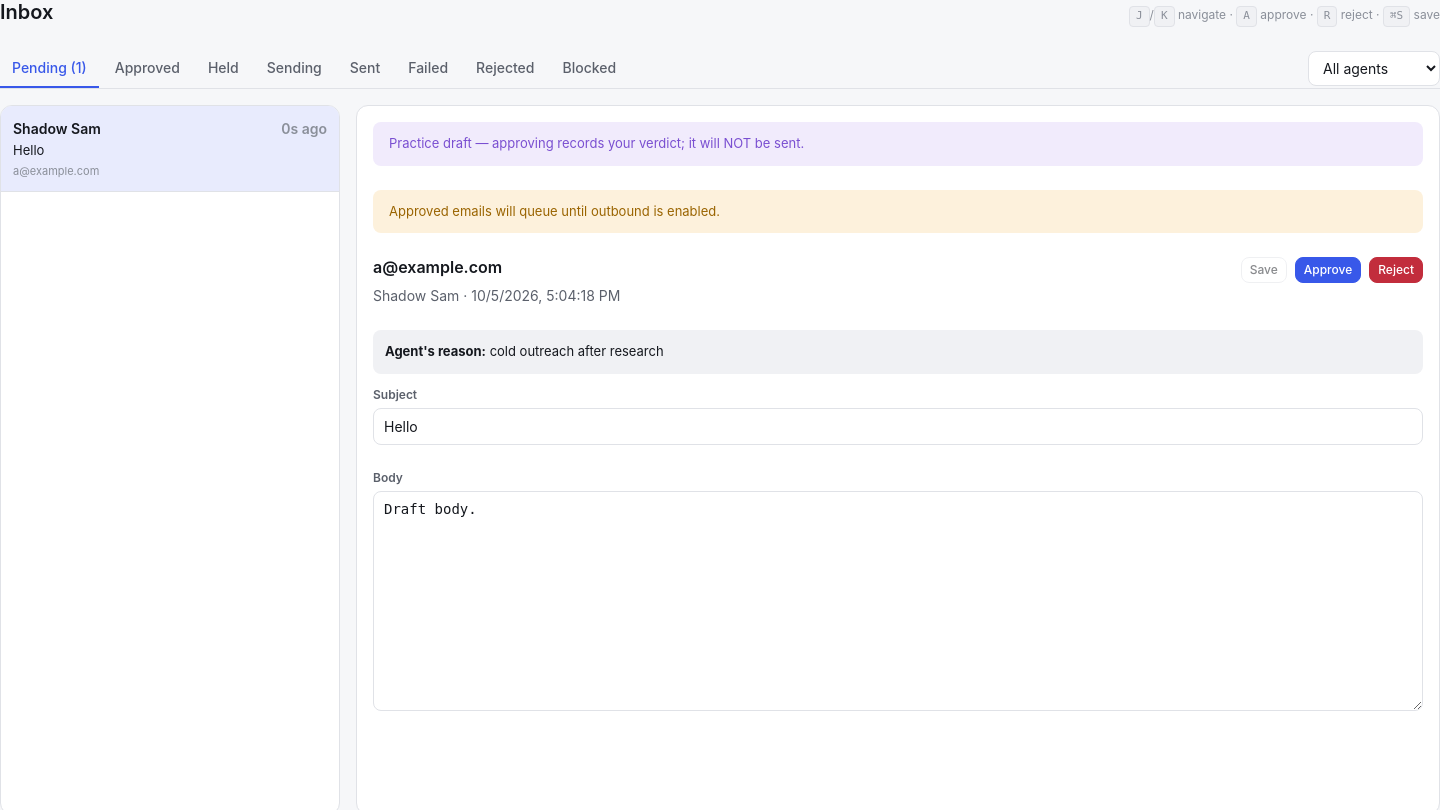
Test: Inbox approval flow › offers Save & approve for an unsaved edit: one click saves the edit, then approves the saved version
The width and height of the screenshot is (1440, 810).
Expected: the button "Approve" is enabled, [1295,257,1361,283]
Step 1. Replace the text in the text box labelled "Body" with "Edited body text." → coordinates (898, 600), box [373,490,1423,710]
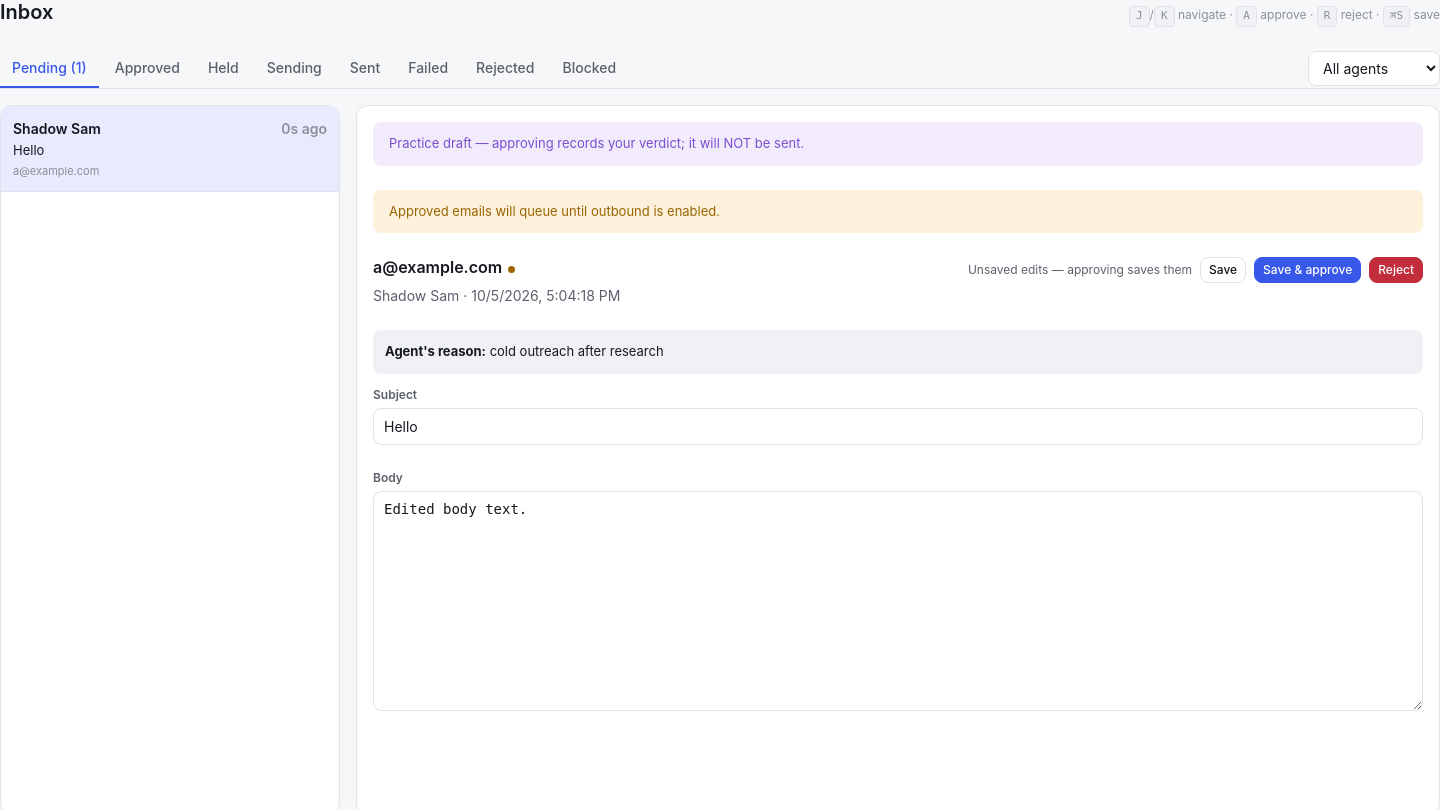
Step 2. Click the button "Save & approve" → coordinates (1308, 270), box [1254,257,1361,283]
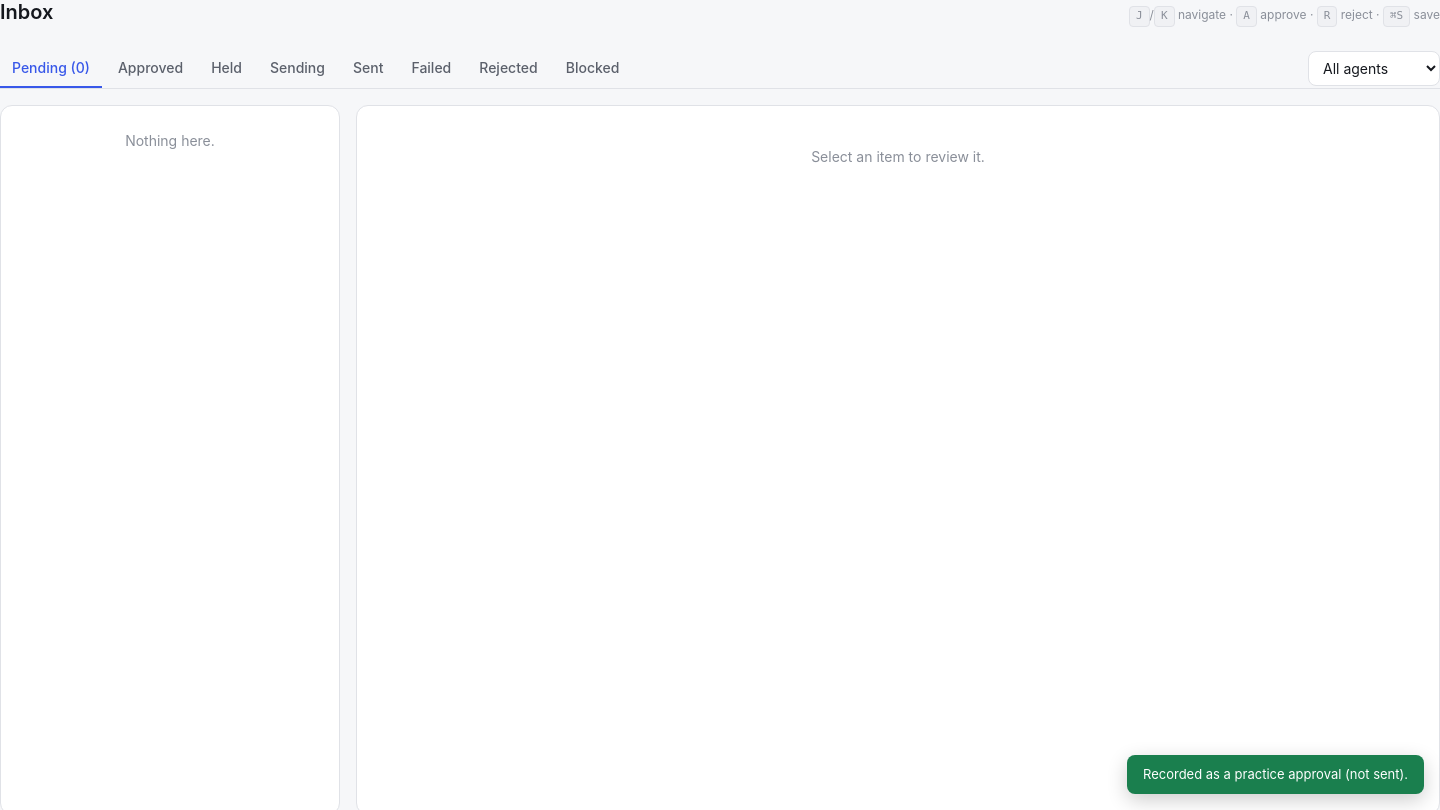
Expected: the button "a@example.com" is gone
